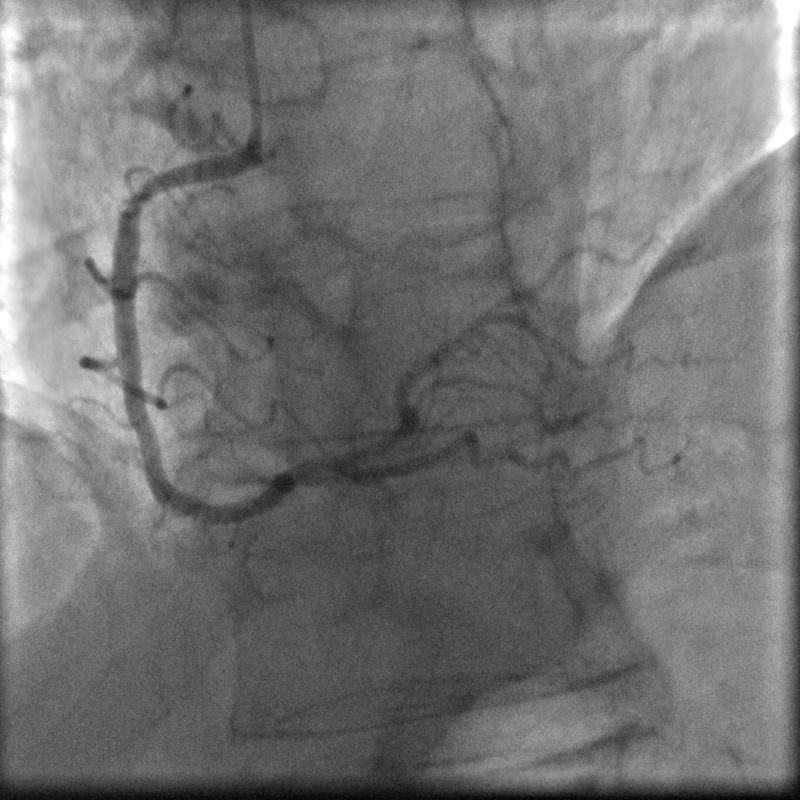Stenosis: (116, 175, 153, 224)
